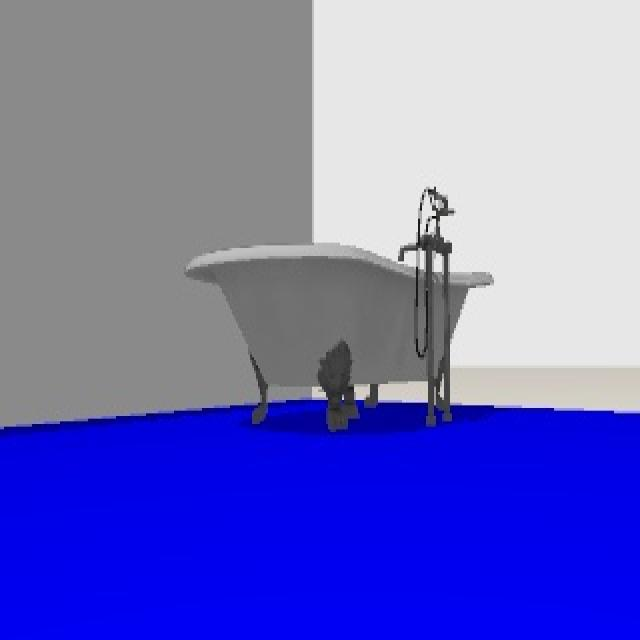bathtub: (182, 185, 494, 429)
